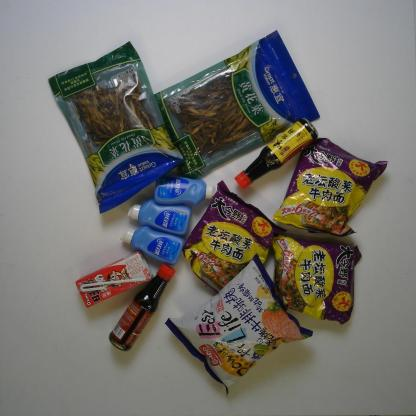Dried Food: (151, 29, 322, 181), (47, 40, 182, 214)
Instant Noodles: (184, 180, 284, 296), (276, 137, 389, 236), (269, 233, 361, 323)
Milk: (72, 250, 152, 308)
Personal Hygiene: (120, 224, 185, 266), (125, 196, 190, 236), (151, 172, 214, 206)
Puffed Food: (166, 256, 314, 397)
Seasoner: (108, 264, 180, 358), (232, 117, 319, 190)
